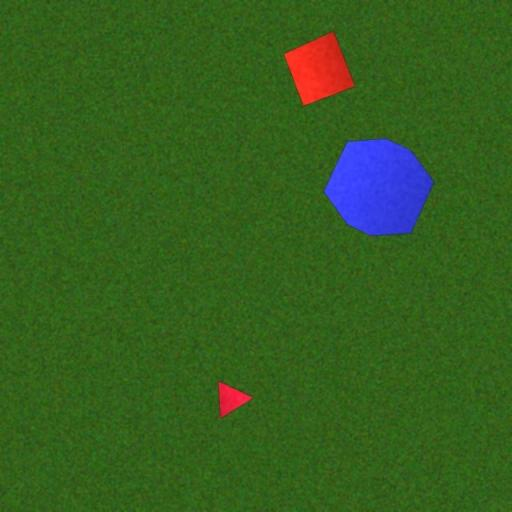RED_SQUARE: (282, 30, 356, 108)
